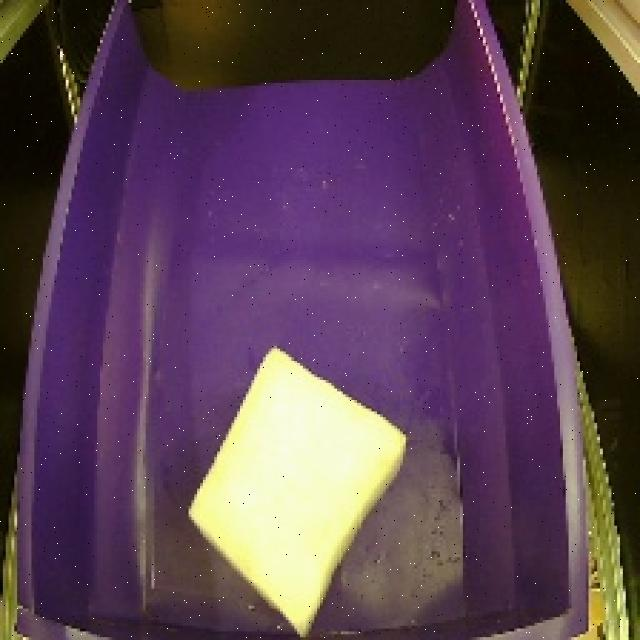white_radish: (179, 335, 413, 640)
